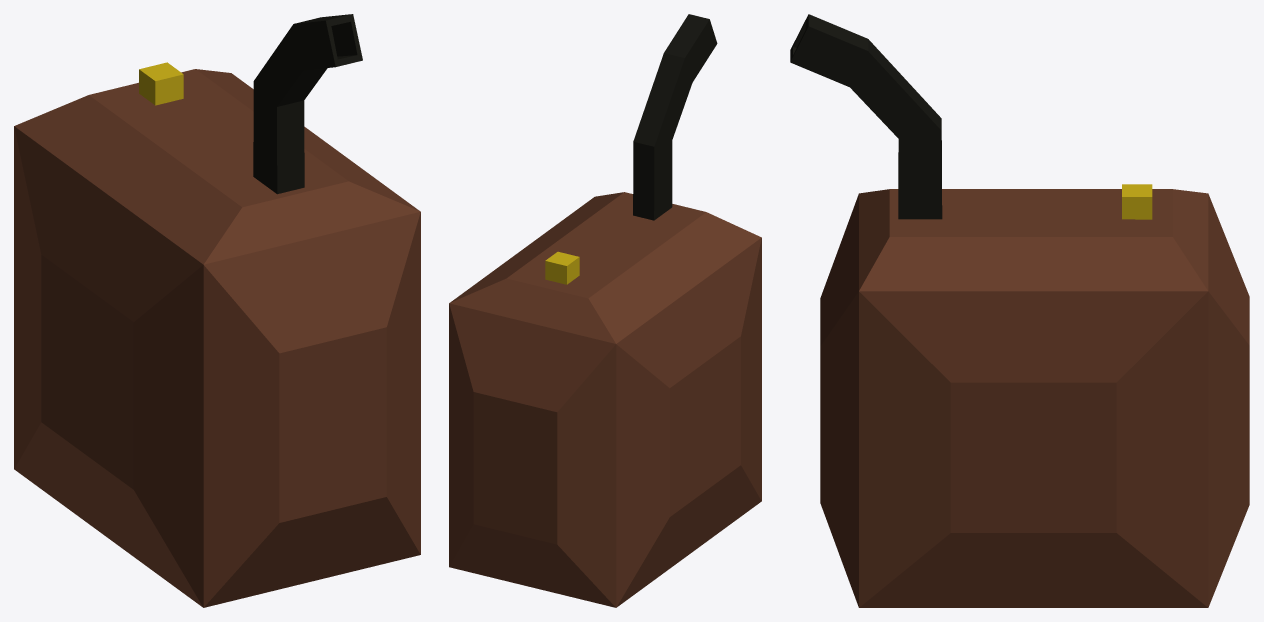
Rendered from gas_can.glb.
3 views of the same model, side by side, from view 1: azimuth 30°, elevation 25°; view 2: azimuth 150°, elevation 25°; view 3: azimuth 270°, elevation 25° (orthographic). The views are drawn at different scales.
Visible parts, largest first — view 1: Cube; view 2: Cube; view 3: Cube.
Part boxes in pixels (x1,y1,x2,y2): Cube: (14,14,420,607); Cube: (449,14,761,607); Cube: (790,14,1249,607).
Size of the model in its own units: 0.9253 by 2.07 by 1.55.
Materials: 1 (1 with a texture image).
